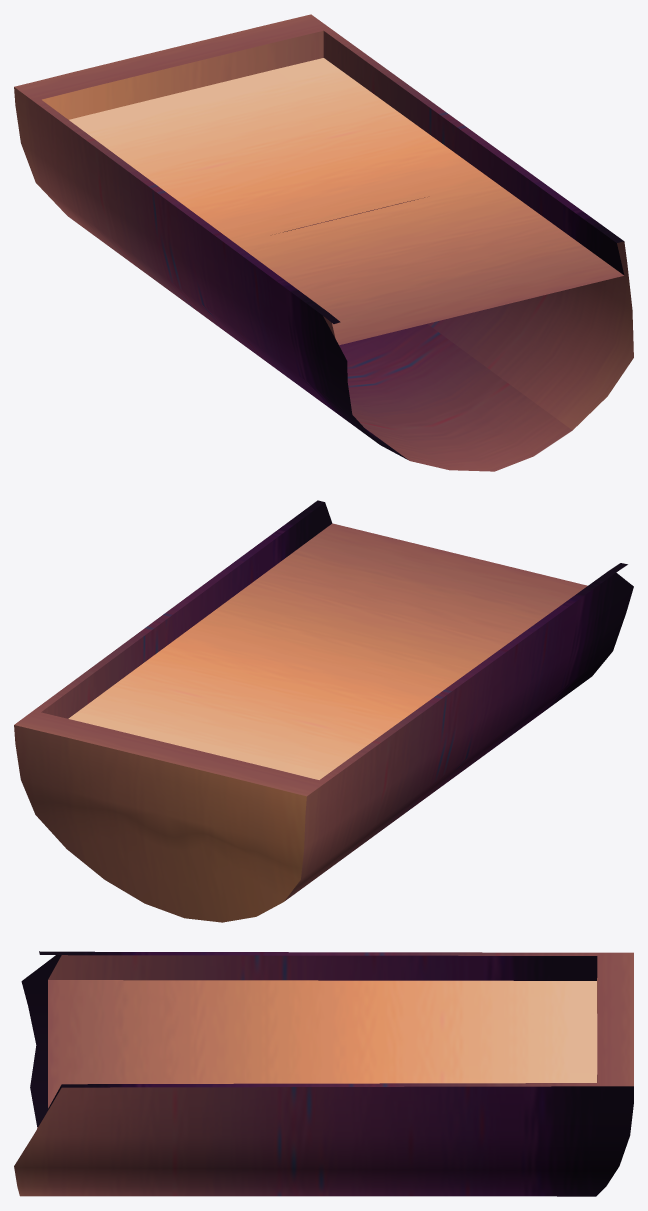
Rendered from ShipBack.fbx.
The picture shows the model from 3 angles, top to bottom: view 1: azimuth 30°, elevation 25°; view 2: azimuth 150°, elevation 25°; view 3: azimuth 270°, elevation 25°; orthographic projection. The views are drawn at different scales.
Parts seen in each view (by area): view 1: polySurface3; view 2: polySurface3; view 3: polySurface3.
Boxes of the visible parts, x1,y1,x2,y2 form: polySurface3: (14, 14, 633, 471); polySurface3: (14, 500, 633, 922); polySurface3: (14, 951, 633, 1196).
Bounding box in the file's own units: 2.6 × 1.46 × 5.
1 material, 1 textured.
